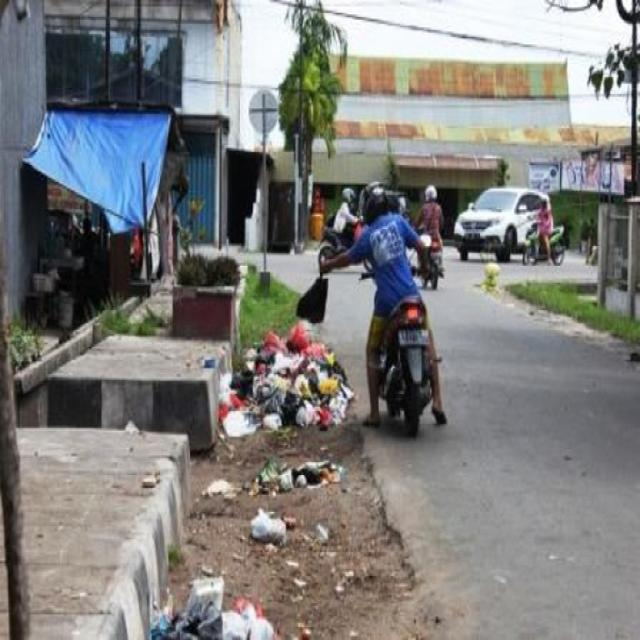sampah-detection: (222, 321, 354, 445), (144, 568, 278, 640), (247, 455, 348, 502), (246, 503, 299, 550), (294, 274, 329, 328)
